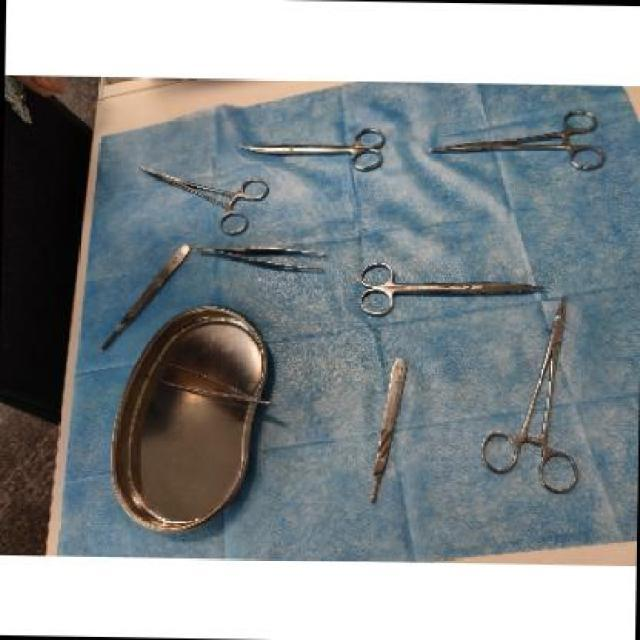tools_table: (85, 97, 638, 550)
